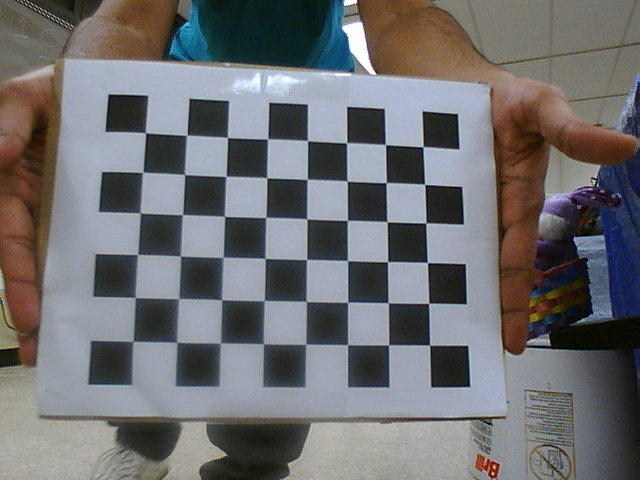bunny: (526, 186, 608, 334)
